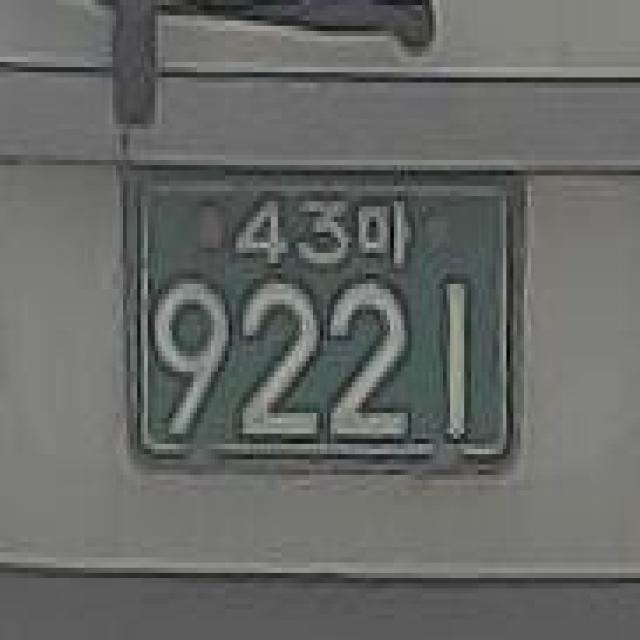illegal_plate: (114, 147, 535, 493)
